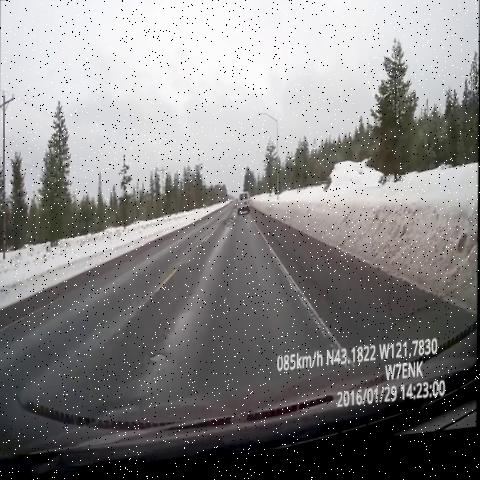pothole: (90, 398, 150, 439), (145, 343, 176, 376), (219, 208, 242, 243)
